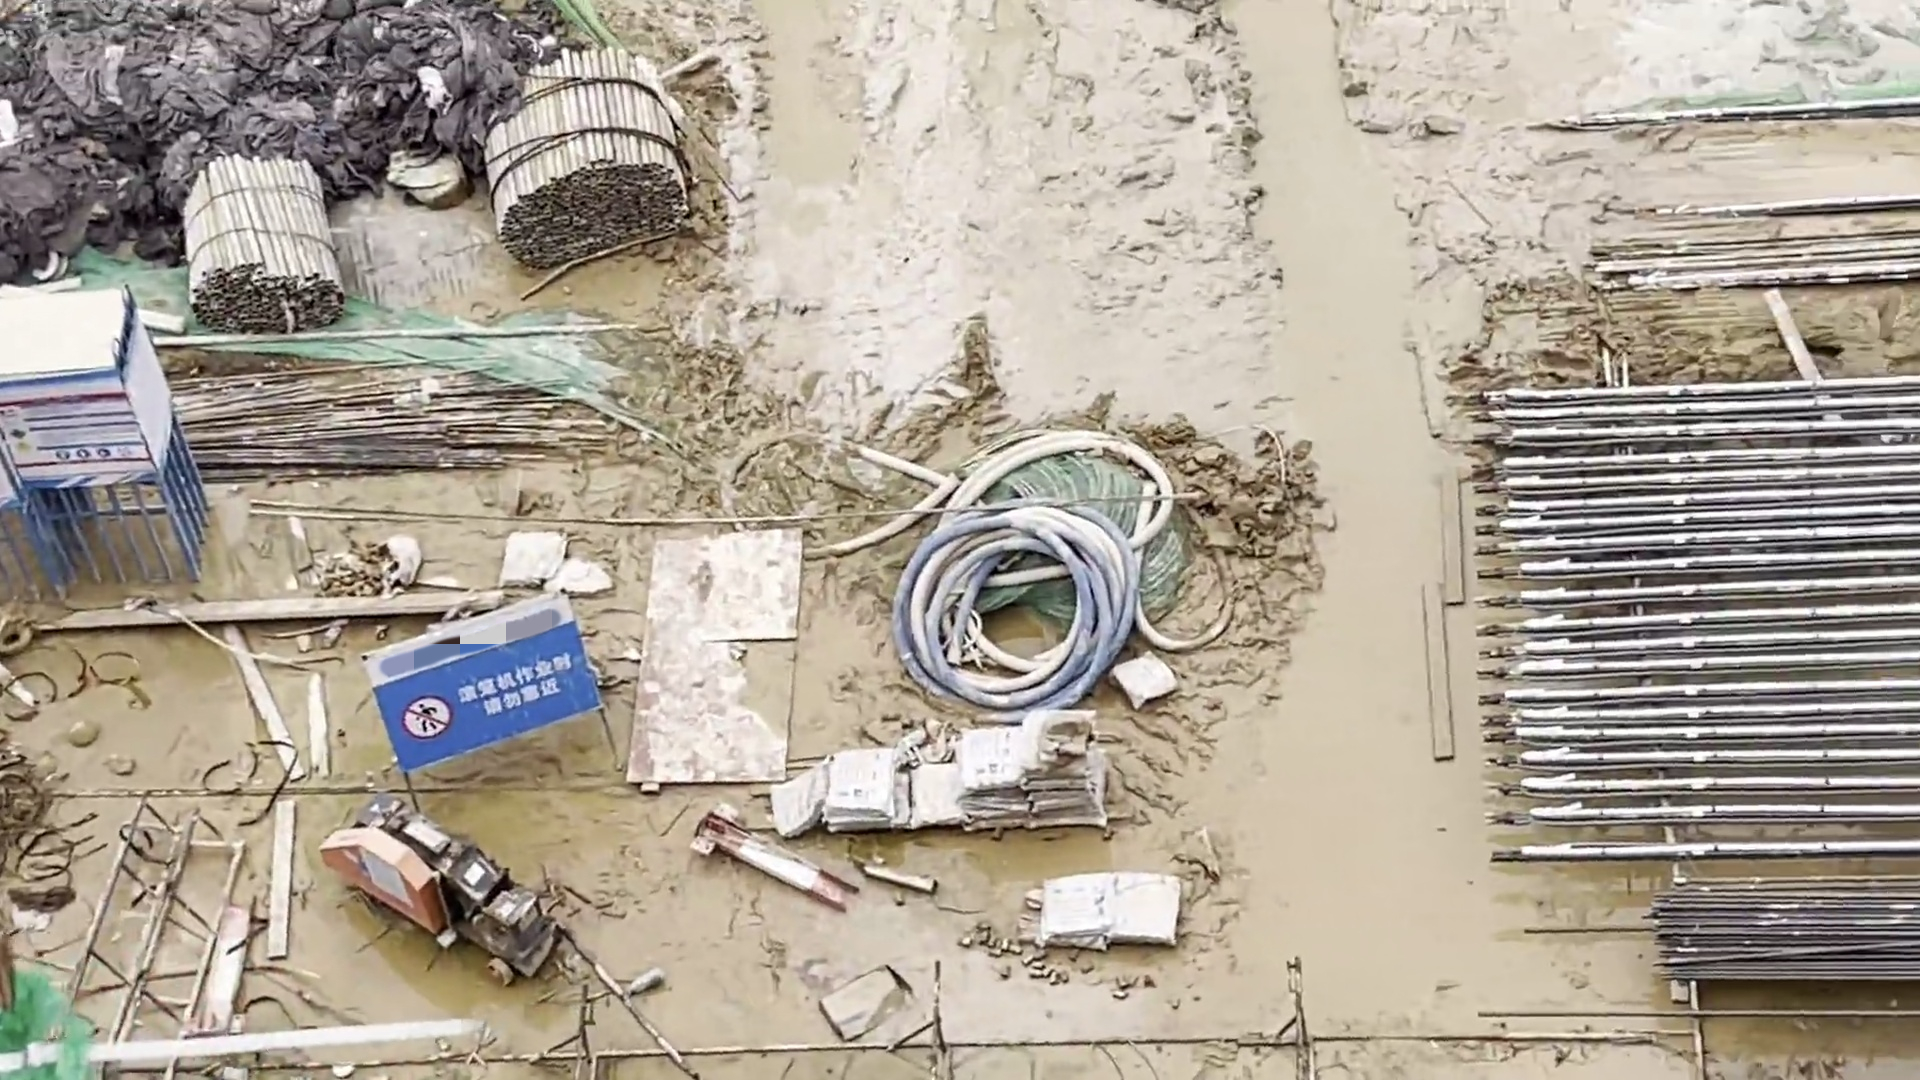rebar: (1640, 872, 1920, 1031)
slogan: (365, 591, 607, 764)
